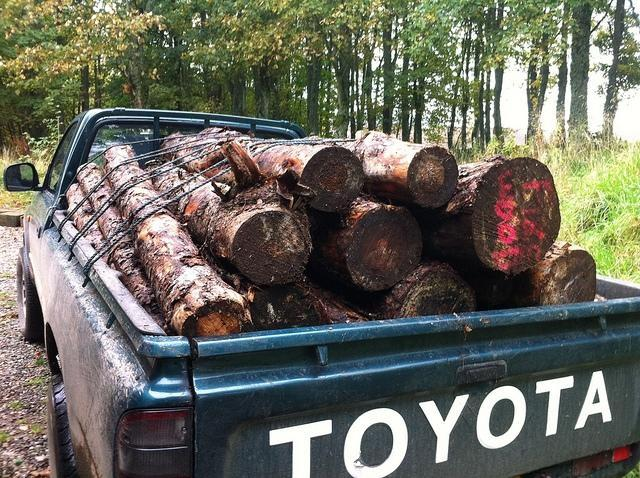truck: (2, 105, 640, 473)
